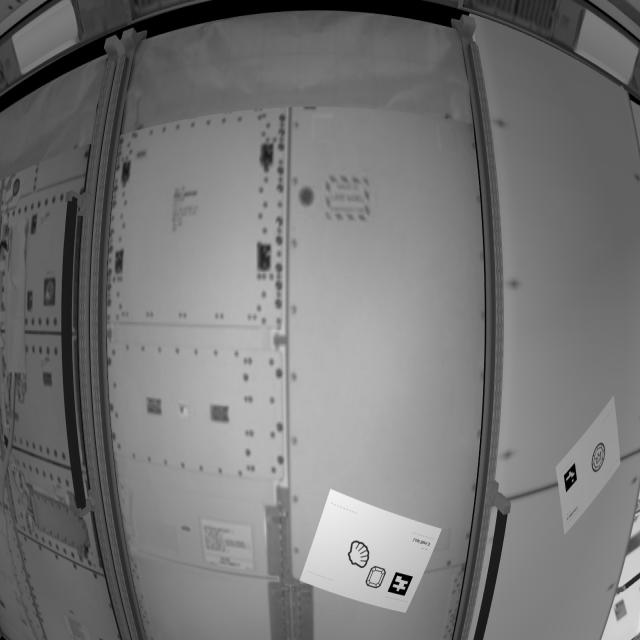coin: (591, 441, 609, 473)
emerald: (365, 563, 387, 591)
shell: (348, 538, 372, 572)
